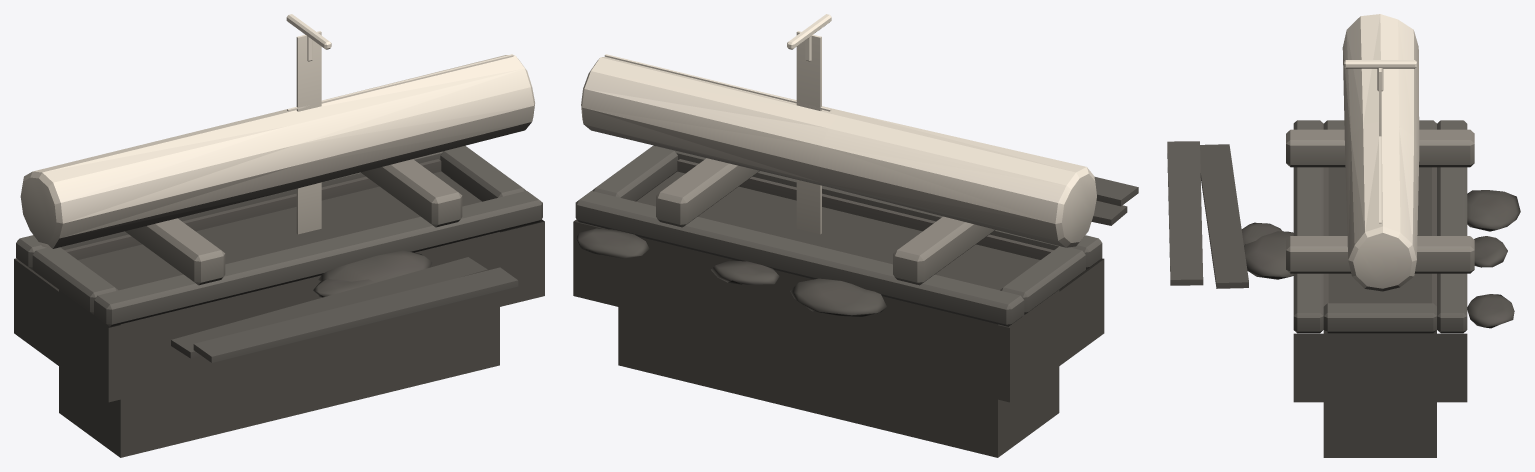
Rendered from SM_VK_Prop_SawPit.fbx.
The picture shows the model from 3 angles, left to right: view 1: azimuth 30°, elevation 25°; view 2: azimuth 150°, elevation 25°; view 3: azimuth 270°, elevation 25°; orthographic projection. The views are drawn at different scales.
Visible parts, largest first — view 1: SM_VK_Prop_SawPit.001; view 2: SM_VK_Prop_SawPit.001; view 3: SM_VK_Prop_SawPit.001.
Boxes of the visible parts, x1=… form: SM_VK_Prop_SawPit.001: x1=14, y1=14, x2=544, y2=457; SM_VK_Prop_SawPit.001: x1=573, y1=14, x2=1138, y2=457; SM_VK_Prop_SawPit.001: x1=1167, y1=14, x2=1520, y2=457.
Bounding box in the file's own units: 4.06 × 2.85 × 2.81.
